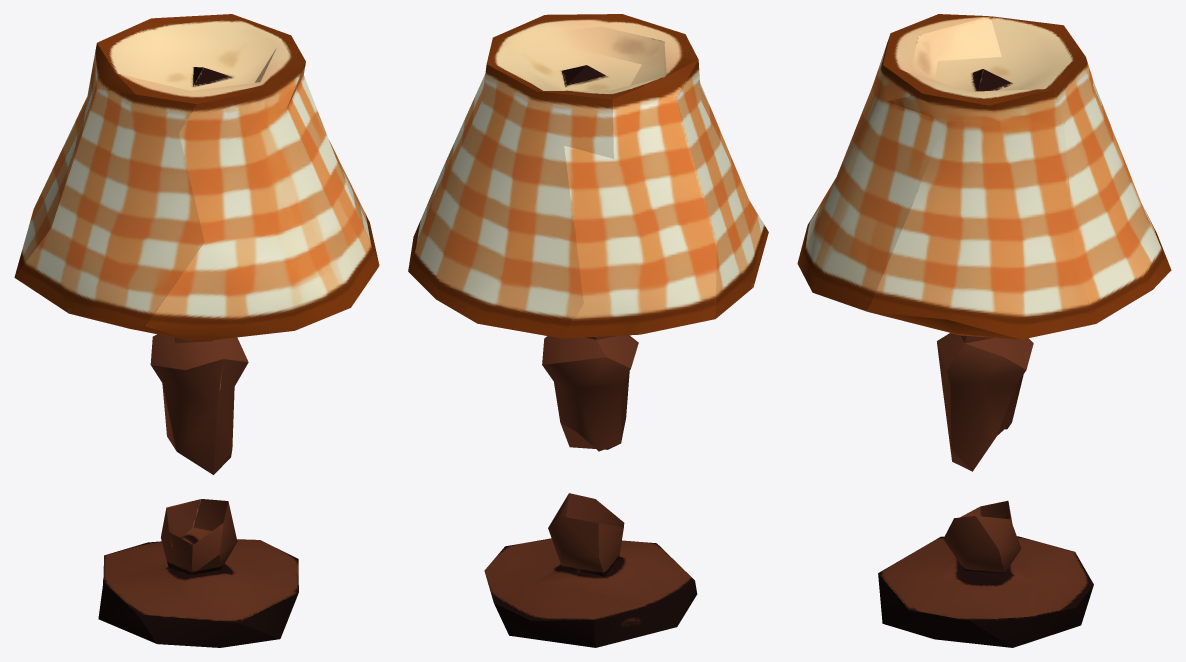
File: family-gingham-lamp.glb
3 renders of one model, left to right at view 1: azimuth 30°, elevation 25°; view 2: azimuth 150°, elevation 25°; view 3: azimuth 270°, elevation 25°, orthographic.
Visible parts, largest first — view 1: geometry_0; view 2: geometry_0; view 3: geometry_0.
Part boxes in pixels (box(x1,y1,x2,y2)): geometry_0: box(14, 14, 379, 647); geometry_0: box(408, 14, 768, 647); geometry_0: box(797, 14, 1171, 647).
Size of the model in its own units: 0.5899 by 1 by 0.6097.
Materials: 1 (1 with a texture image).
